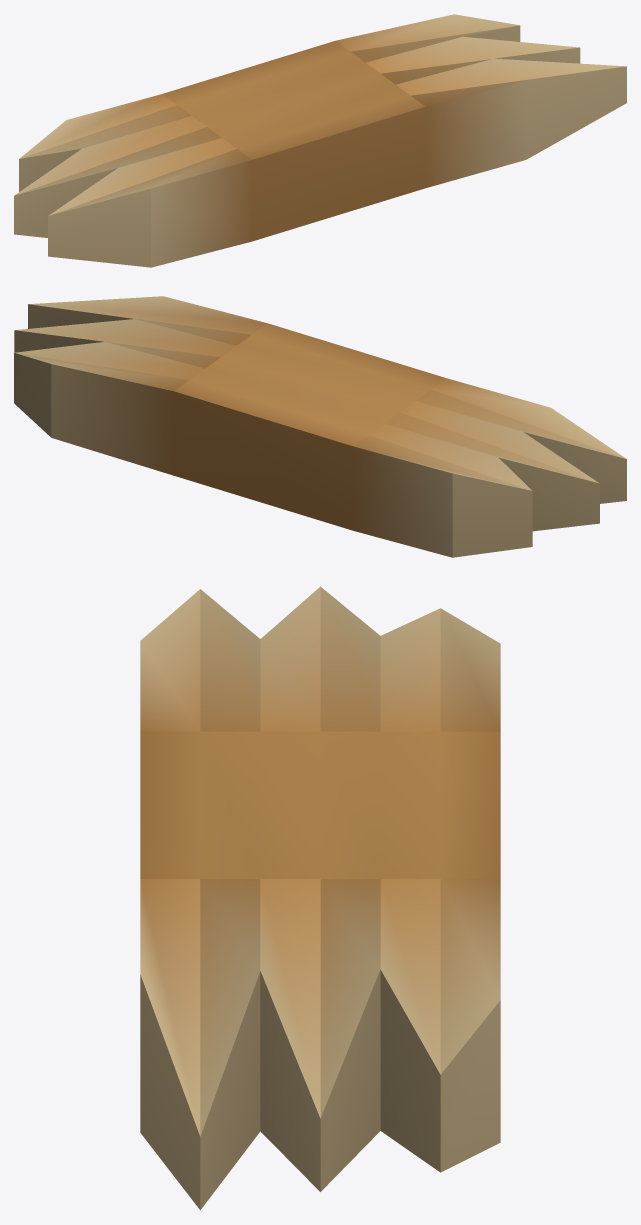
File: box_debris.glb
The picture shows the model from 3 angles, top to bottom: view 1: azimuth 30°, elevation 25°; view 2: azimuth 150°, elevation 25°; view 3: azimuth 270°, elevation 25°; orthographic projection. The views are drawn at different scales.
Parts seen in each view (by area): view 1: box_debris; view 2: box_debris; view 3: box_debris.
Part boxes in pixels (box(x1,y1,x2,y2)): box_debris: box(14, 14, 626, 267); box_debris: box(14, 296, 626, 557); box_debris: box(140, 586, 500, 1210).
Bounding box in the file's own units: 0.4483 × 0.0716 × 0.12.
